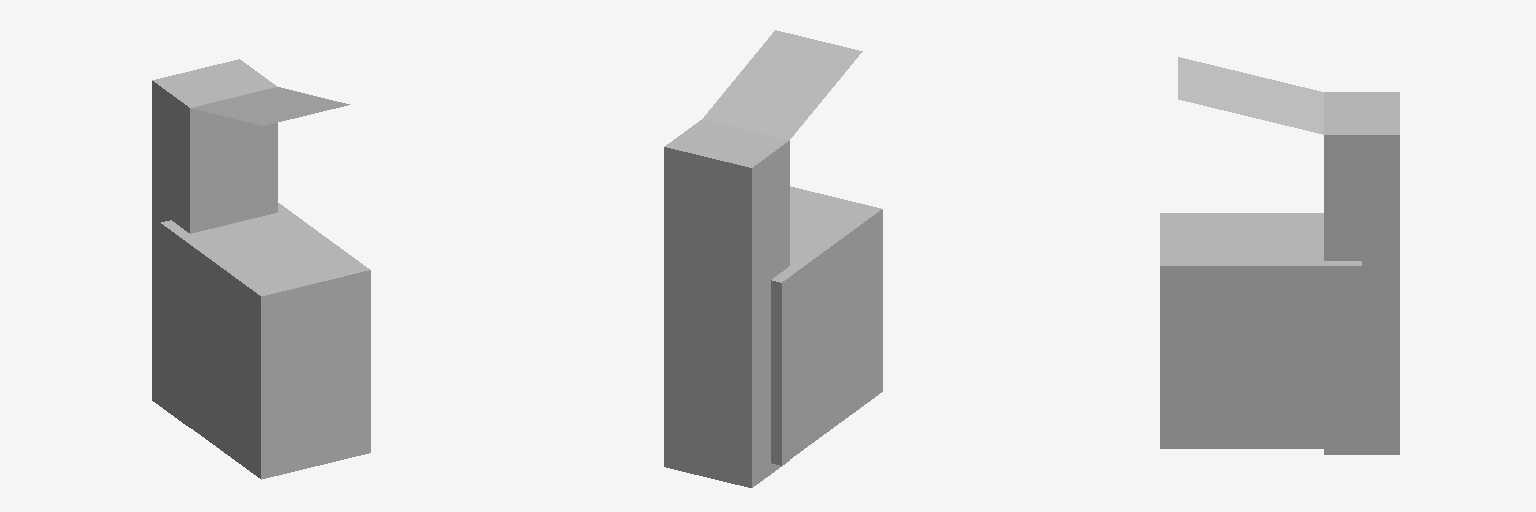
The model's file is snail_snail.obj.
The picture shows the model from 3 angles: view 1: azimuth 30°, elevation 25°; view 2: azimuth 150°, elevation 25°; view 3: azimuth 270°, elevation 25°; orthographic projection.
Size of the model in its own units: 0.3125 by 0.9721 by 0.5938.